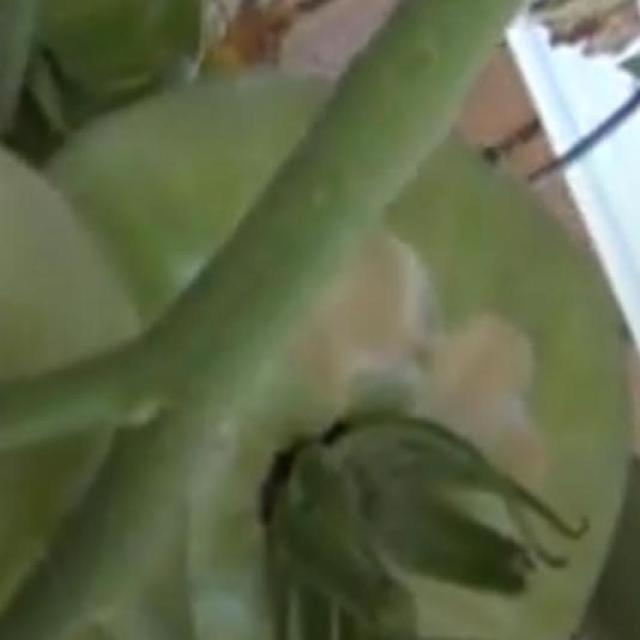Sunscald Fruit: (171, 123, 384, 386)
